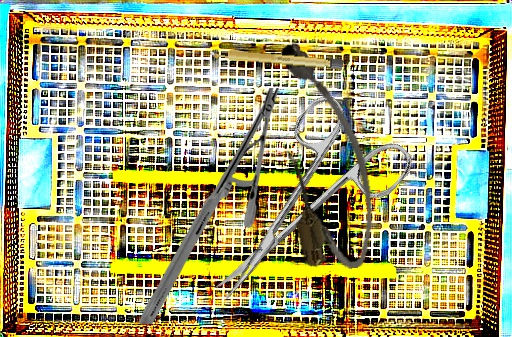Cannula: (264, 34, 386, 277)
Iris Scissors: (174, 81, 419, 332)
Needle Holder: (139, 88, 281, 324)
Scalpel Handle: (209, 47, 344, 70)
